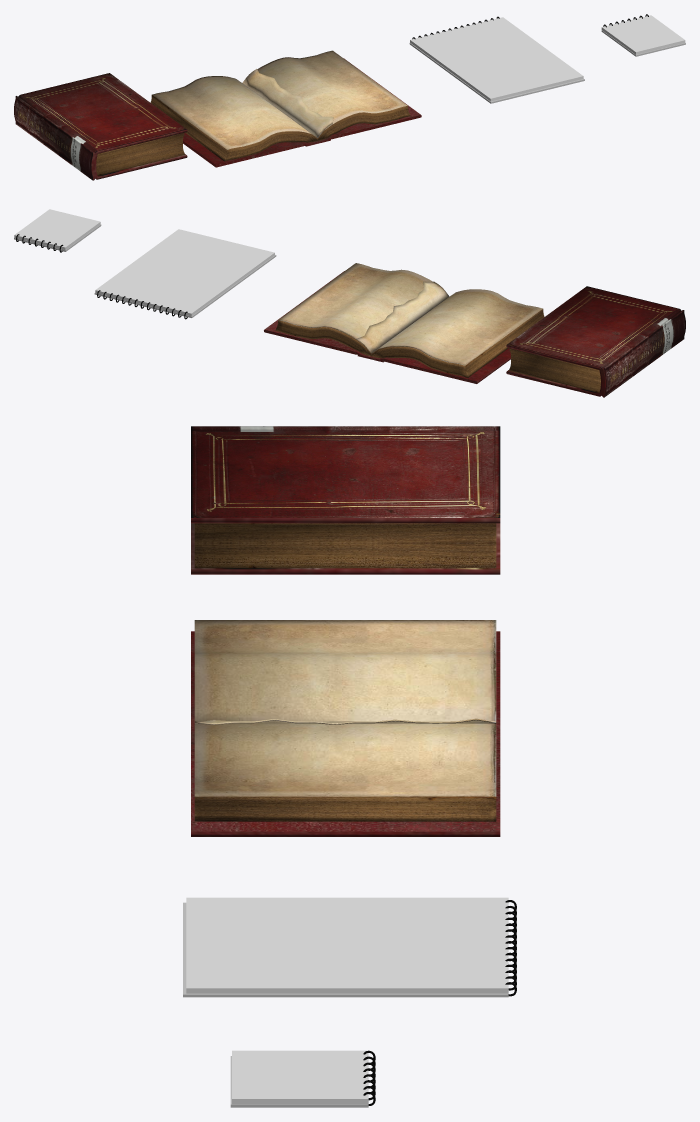
Rendered from Props4.fbx.
The picture shows the model from 3 angles, top to bottom: view 1: azimuth 30°, elevation 25°; view 2: azimuth 150°, elevation 25°; view 3: azimuth 270°, elevation 25°; orthographic projection. The views are drawn at different scales.
Visible parts, largest first — view 1: Libro 2.001, Libro 1, Plane.001, Plane, Libro 1.001, Plane.003, Libro 2, Plane.002; view 2: Libro 2.001, Libro 1, Plane.001, Plane, Libro 1.001, Plane.003, Libro 2, Plane.002; view 3: Libro 2.001, Libro 1, Plane.001, Libro 1.001, Plane.003, Libro 2, Plane.002, Plane.
Boxes of the visible parts, x1,y1,x2,y2 form: Libro 2.001: [150, 50, 410, 161]; Libro 1: [14, 73, 187, 180]; Plane.001: [410, 17, 583, 101]; Plane: [242, 69, 333, 137]; Libro 1.001: [96, 133, 184, 175]; Plane.003: [601, 15, 685, 54]; Libro 2: [183, 58, 421, 167]; Plane.002: [409, 43, 584, 103]; Libro 2.001: [275, 263, 544, 377]; Libro 1: [506, 286, 685, 397]; Plane.001: [95, 229, 274, 316]; Plane: [356, 281, 449, 353]; Libro 1.001: [509, 348, 600, 392]; Plane.003: [14, 209, 100, 250]; Libro 2: [264, 271, 510, 383]; Plane.002: [94, 255, 276, 317]; Libro 2.001: [194, 620, 496, 821]; Libro 1: [191, 426, 500, 574]; Plane.001: [186, 897, 508, 993]; Libro 1.001: [194, 523, 496, 568]; Plane.003: [232, 1050, 368, 1104]; Libro 2: [191, 631, 500, 836]; Plane.002: [183, 902, 508, 997]; Plane: [194, 718, 496, 724].
Bounding box in the file's own units: 1287 × 98.18 × 308.
